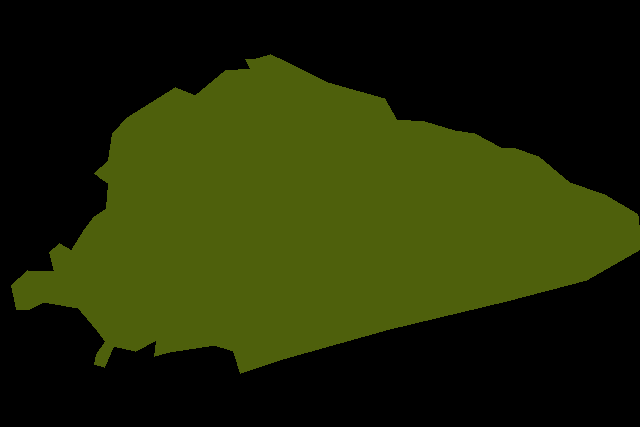Train: (11, 54, 640, 374)
